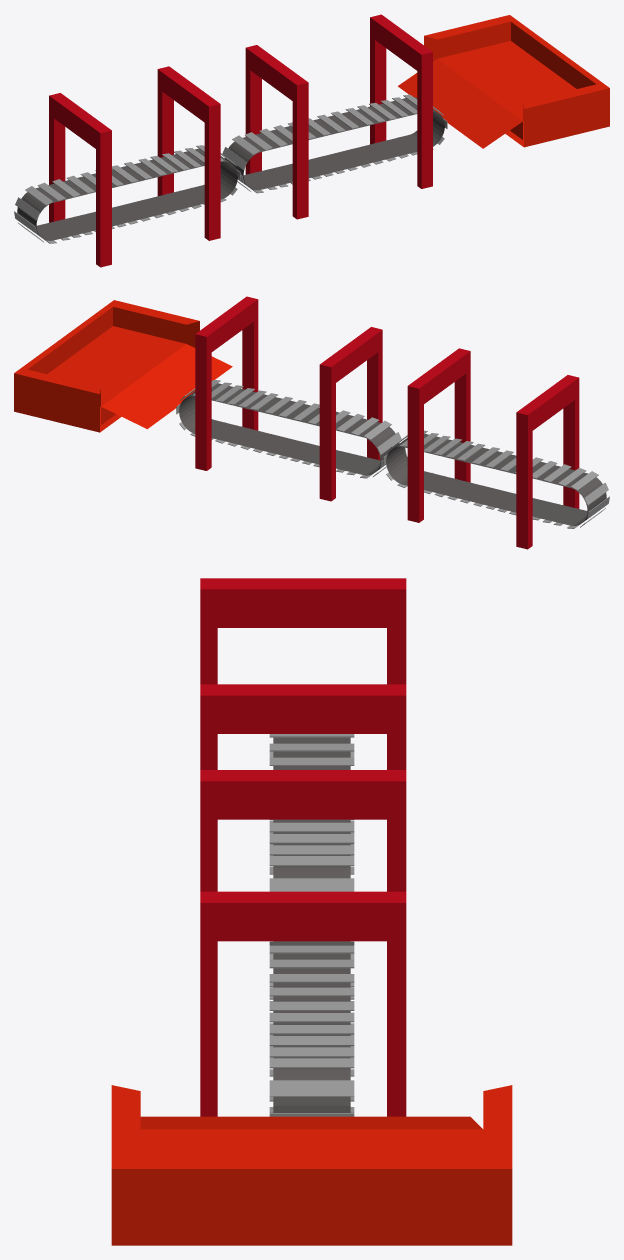
Rendered from project.glb-1.glb.
The picture shows the model from 3 angles, top to bottom: view 1: azimuth 30°, elevation 25°; view 2: azimuth 150°, elevation 25°; view 3: azimuth 270°, elevation 25°; orthographic projection. The views are drawn at different scales.
Visible parts, largest first — view 1: Cube.024, Circle, Circle.002, Cube.106, Cube.018, Cube.105, Cube.022; view 2: Cube.024, Circle, Cube.022, Circle.002, Cube.106, Cube.105, Cube.018; view 3: Cube.024, Cube.022, Cube.018, Cube.105, Cube.106, Circle.002, Circle, Cube.088, Cube.019, Cube.016, Cube.017, Cube.086 (+2 smaller).
Part boxes in pixels (box(x1,y1,x2,y2)): Cube.024: box(398, 15, 609, 148); Circle: box(17, 148, 237, 240); Circle.002: box(224, 97, 444, 190); Cube.106: box(157, 66, 220, 240); Cube.018: box(245, 45, 308, 219); Cube.105: box(49, 93, 111, 267); Cube.022: box(370, 14, 432, 188); Cube.024: box(14, 300, 232, 432); Circle: box(386, 433, 606, 525); Cube.022: box(195, 296, 258, 470); Circle.002: box(179, 383, 399, 475); Cube.106: box(407, 348, 470, 522); Cube.105: box(516, 375, 579, 549); Cube.018: box(319, 327, 382, 501); Cube.024: box(111, 1085, 512, 1245); Cube.022: box(200, 891, 406, 1116); Cube.018: box(200, 770, 406, 891); Cube.105: box(200, 578, 406, 684); Cube.106: box(200, 684, 406, 769); Circle.002: box(273, 941, 350, 1112); Circle: box(273, 737, 350, 878); Cube.088: box(269, 1080, 354, 1096); Cube.019: box(269, 878, 354, 891); Cube.016: box(269, 845, 354, 855); Cube.017: box(269, 856, 354, 866); Cube.086: box(269, 1047, 354, 1057).
Size of what is drawn, in the model's own units: 29.21 by 7 by 9.46.
